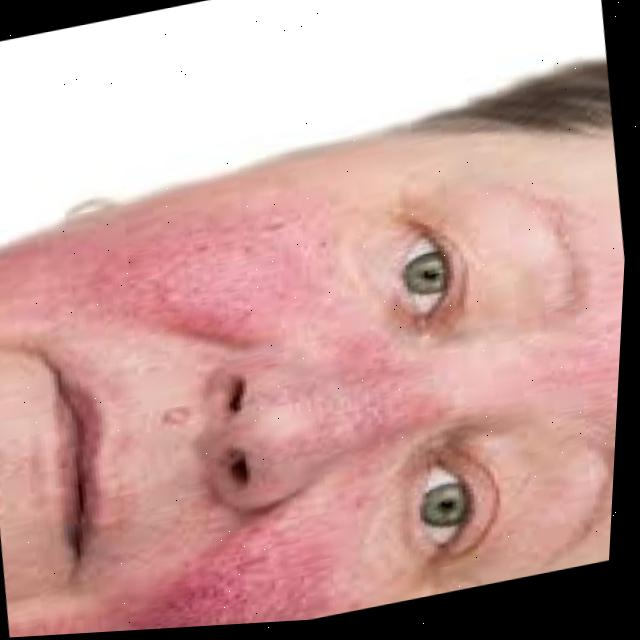Rosacea: (0, 170, 346, 400), (0, 496, 392, 638), (281, 315, 466, 480)
